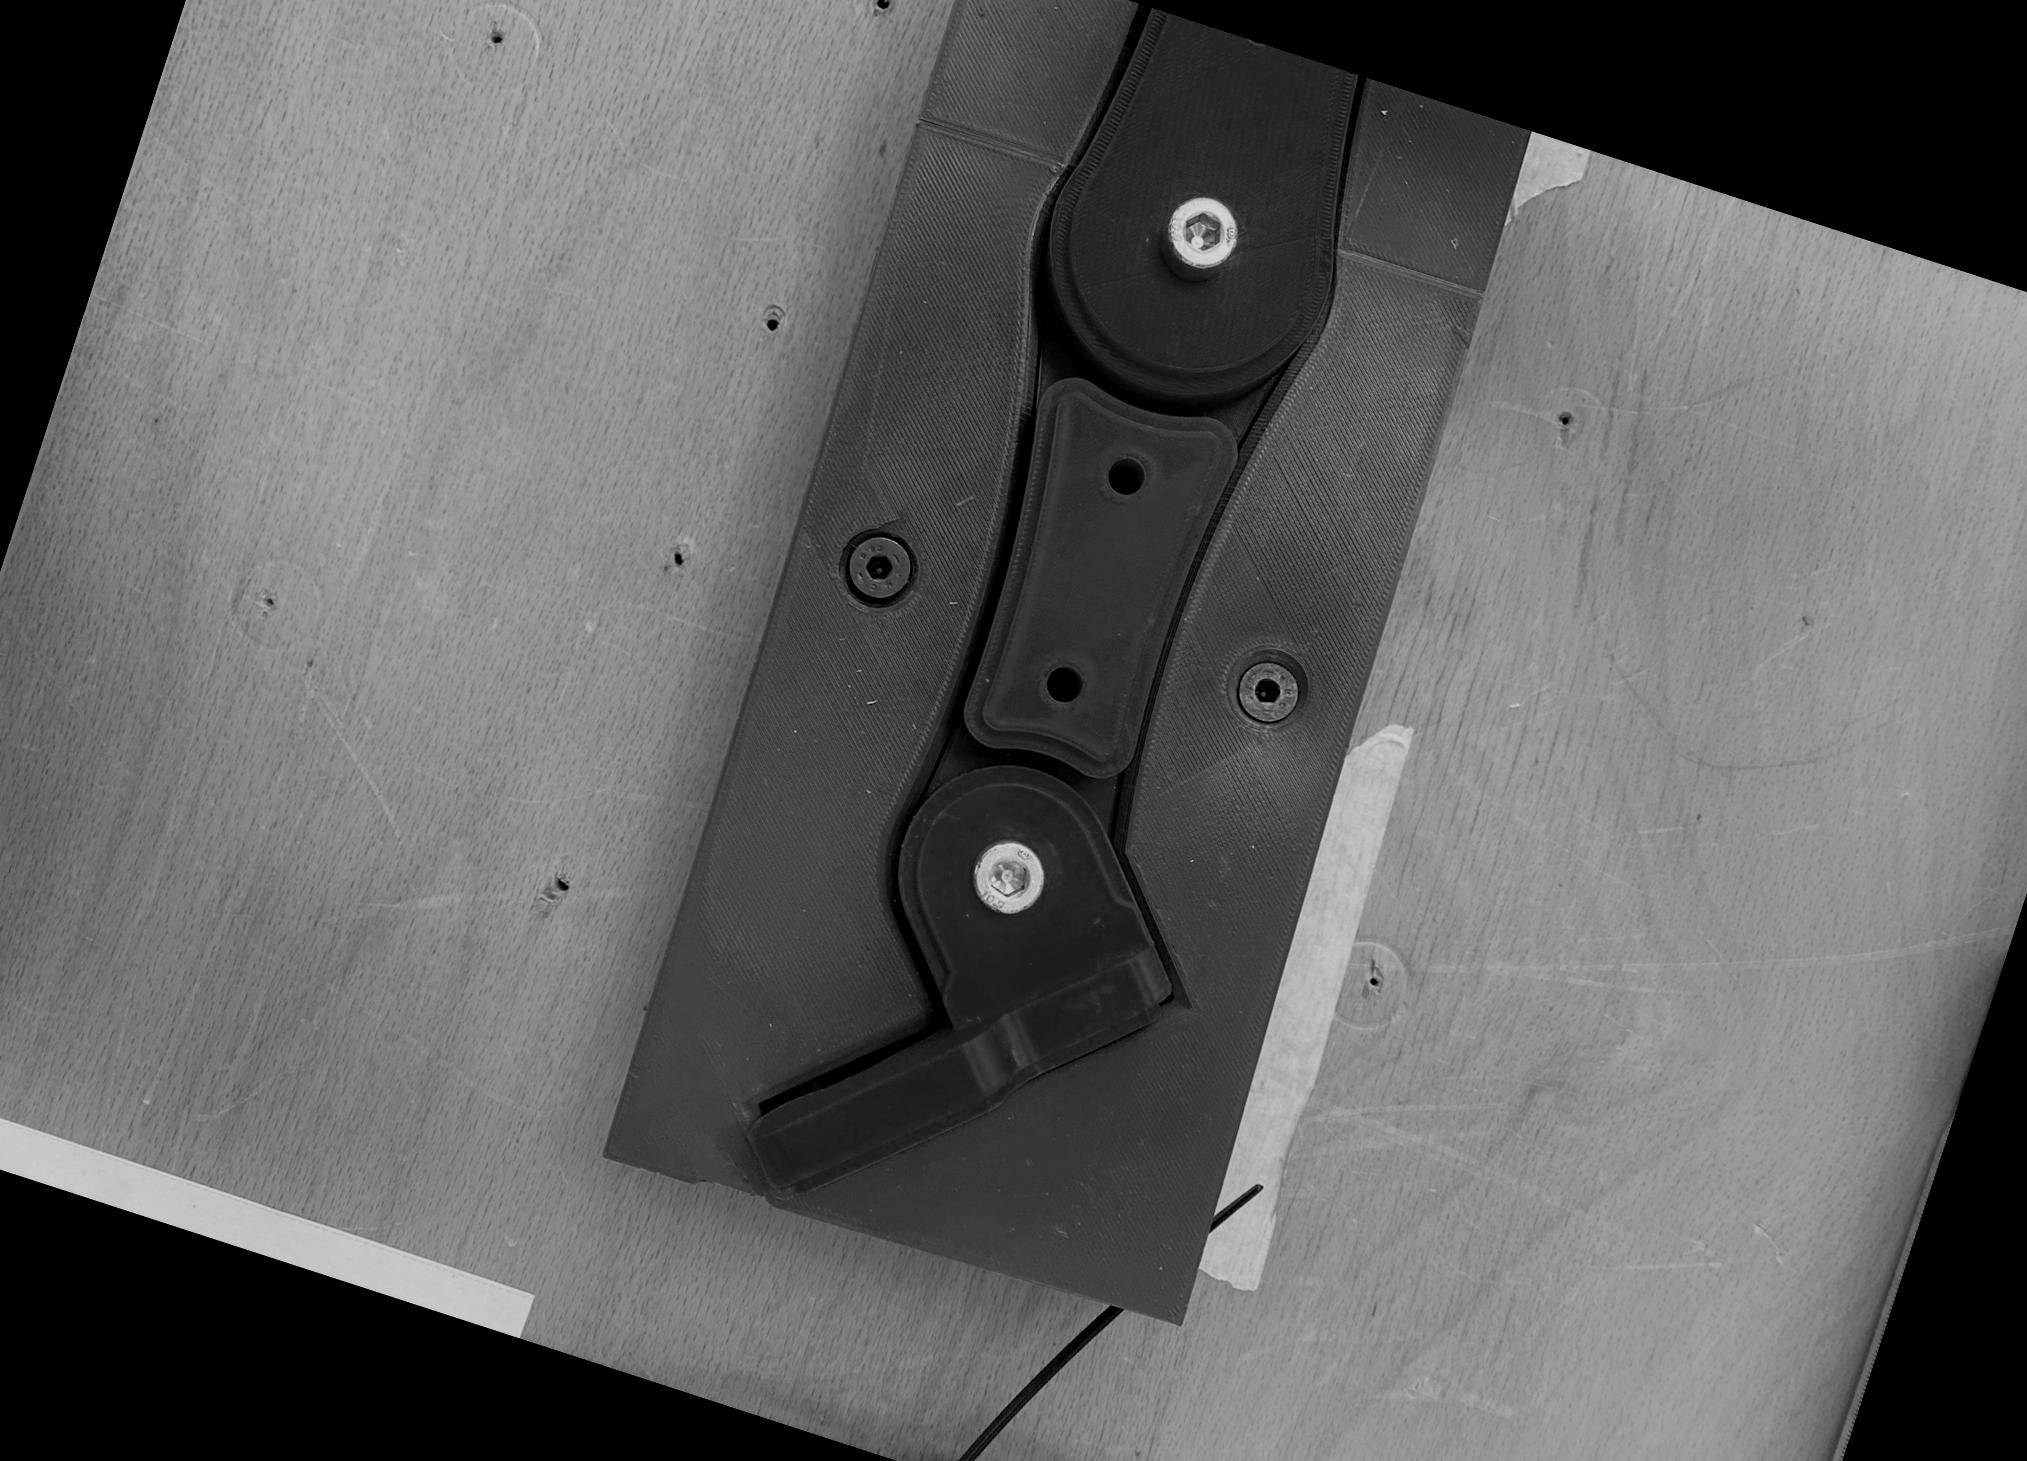allen: (965, 832, 1052, 920), (1158, 188, 1246, 273), (1227, 653, 1308, 731), (838, 527, 916, 608)
